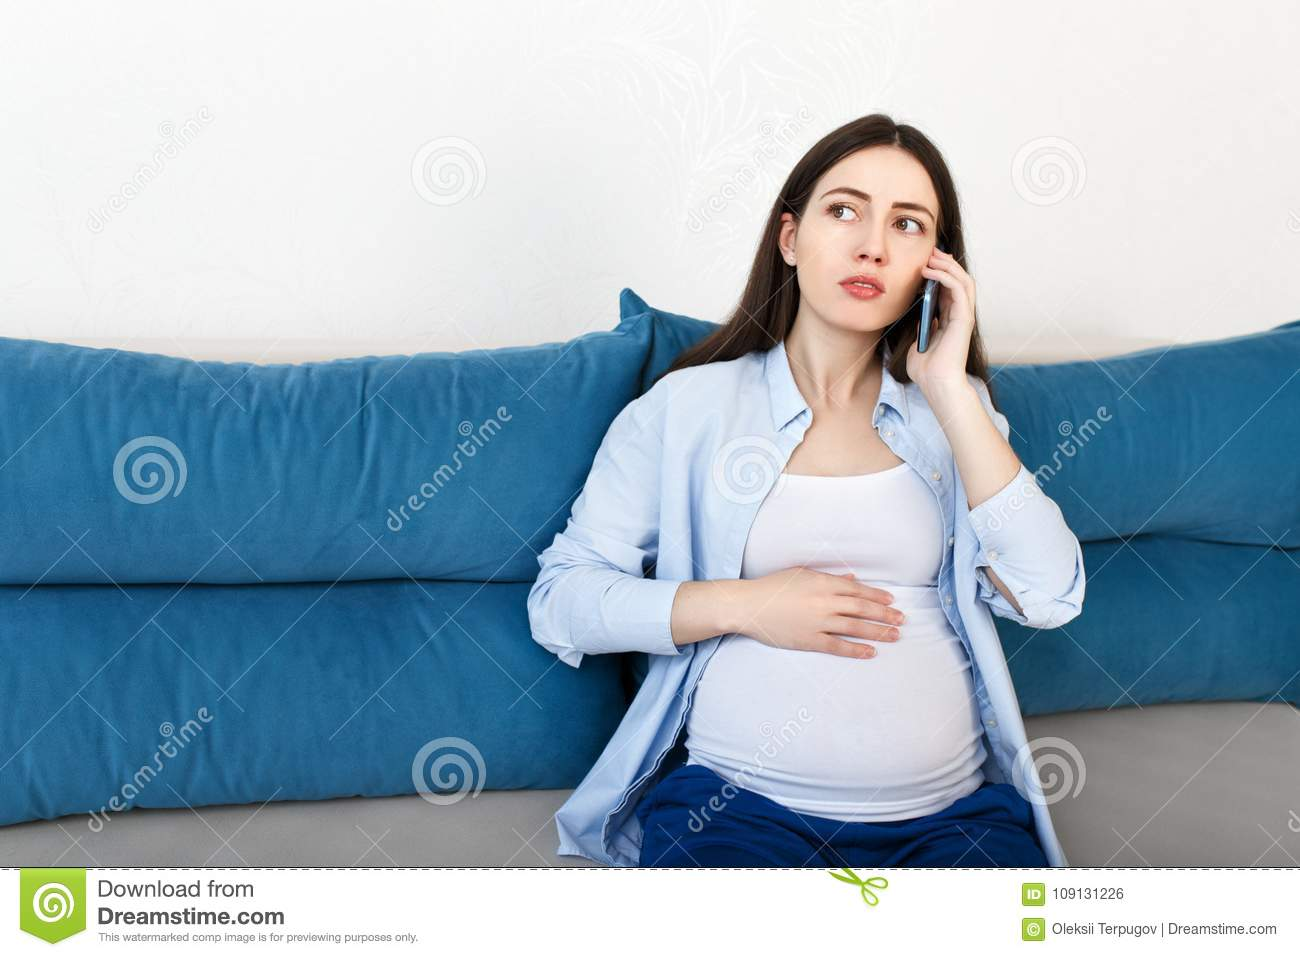phone: (913, 249, 948, 351)
talk: (801, 186, 980, 393)
